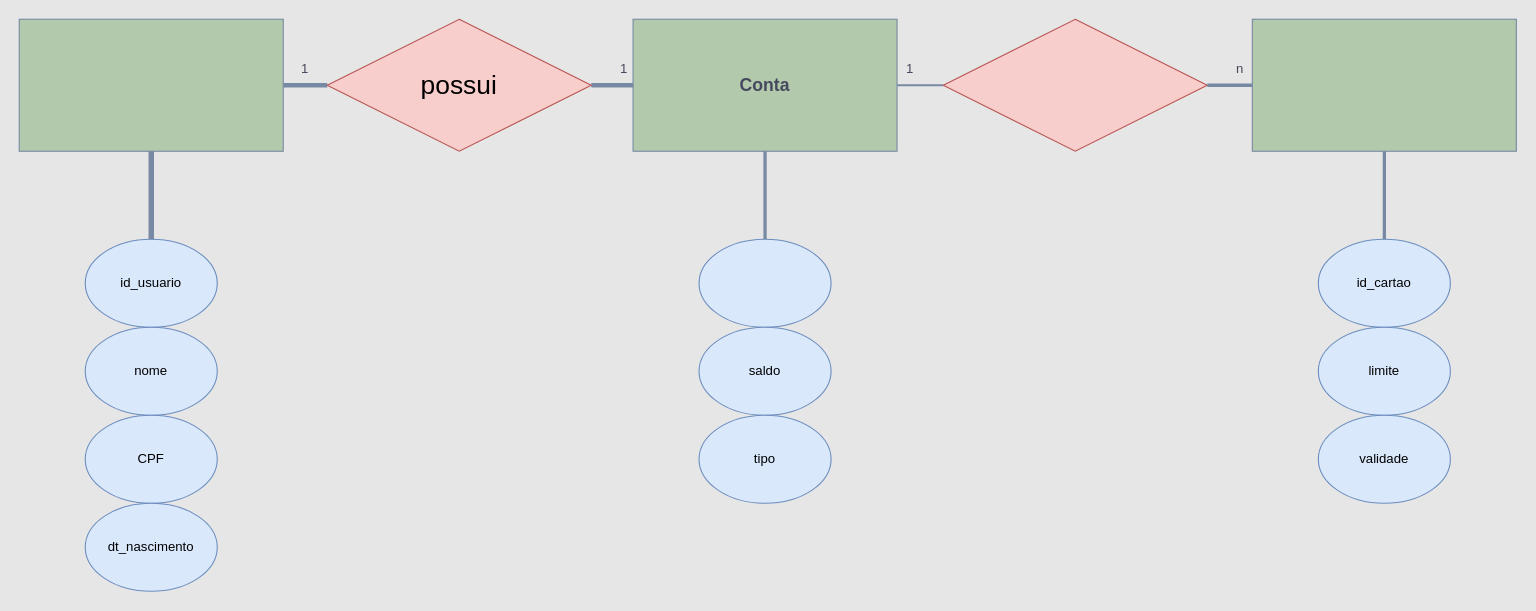
The diagram is 1536 pixels wide and 611 high, and some of its shapes have lost their labels. Each missing label, with the box of its shape:
Cartão: (1251, 18, 1516, 151)
contem: (942, 18, 1207, 151)
id_conta: (698, 238, 831, 327)
Usuário: (18, 18, 283, 151)
